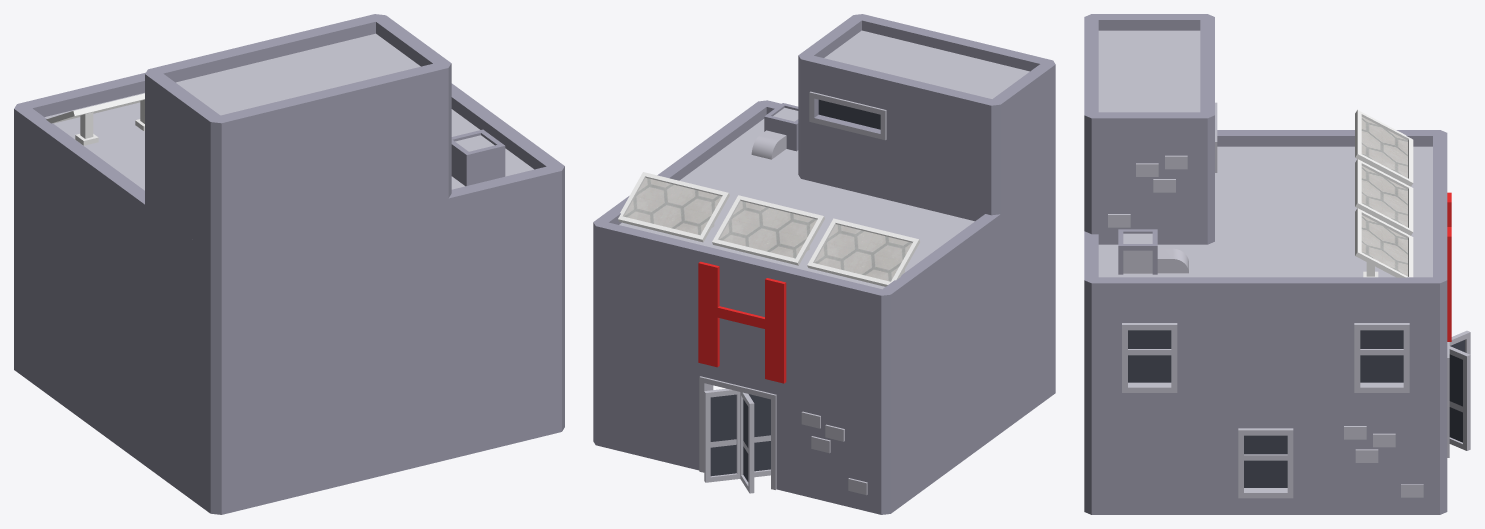
The model's file is hospital_2.fbx.
3 views of the same model, side by side, from view 1: azimuth 30°, elevation 25°; view 2: azimuth 150°, elevation 25°; view 3: azimuth 270°, elevation 25° (orthographic). The views are drawn at different scales.
Parts seen in each view (by area): view 1: wall_straight_68, wall_straight_6, wall_straight_84, wall_straight_70, wall_straight_83, wall_straight_4, wall_straight_69, wall_straight_5, roof_corner_91, roof_corner_89, wall_straight_9, wall_straight_10 (+15 smaller); view 2: wall_straight_67, wall_straight_82, wall_straight_66, wall_doorRevolving_12, wall_straight_80, wall_windowFactory_98, wall_straight_81, wall_straight_9, wall_straight_10, wall_straight_73, wall_straight_8, wall_straight_72 (+23 smaller); view 3: wall_straight_3, wall_straight_62, wall_window_78, wall_window_21, wall_window_79, wall_straight_2, wall_straight_86, roof_side_20, roof_corner_91, roof_corner_89, roof_side_24, roof_corner_16 (+17 smaller).
Boxes of the visible parts, left/top/right/bottom form: wall_straight_68: left=210, top=250, right=334, bottom=396; wall_straight_6: left=210, top=368, right=334, bottom=514; wall_straight_84: left=210, top=119, right=334, bottom=265; wall_straight_70: left=448, top=190, right=564, bottom=340; wall_straight_83: left=335, top=87, right=451, bottom=237; wall_straight_4: left=448, top=313, right=561, bottom=459; wall_straight_69: left=335, top=222, right=448, bottom=368; wall_straight_5: left=335, top=341, right=448, bottom=487; roof_corner_91: left=145, top=41, right=334, bottom=146; roof_corner_89: left=263, top=14, right=451, bottom=119; wall_straight_9: left=14, top=251, right=79, bottom=417; wall_straight_10: left=79, top=299, right=144, bottom=465; wall_straight_67: left=786, top=292, right=890, bottom=415; wall_straight_82: left=896, top=102, right=1000, bottom=221; wall_straight_66: left=593, top=242, right=690, bottom=368; wall_doorRevolving_12: left=691, top=369, right=786, bottom=493; wall_straight_80: left=595, top=346, right=690, bottom=468; wall_windowFactory_98: left=801, top=79, right=895, bottom=201; wall_straight_81: left=786, top=392, right=890, bottom=514; wall_straight_9: left=881, top=374, right=945, bottom=514; wall_straight_10: left=945, top=334, right=1000, bottom=473; wall_straight_73: left=1000, top=194, right=1055, bottom=333; wall_straight_8: left=1000, top=294, right=1055, bottom=432; wall_straight_72: left=890, top=275, right=945, bottom=413; wall_straight_3: left=1084, top=407, right=1207, bottom=514; wall_straight_62: left=1207, top=304, right=1323, bottom=409; wall_window_78: left=1091, top=304, right=1207, bottom=409; wall_window_21: left=1207, top=409, right=1323, bottom=514; wall_window_79: left=1324, top=304, right=1439, bottom=409; wall_straight_2: left=1324, top=407, right=1447, bottom=514; wall_straight_86: left=1084, top=136, right=1214, bottom=244; roof_side_20: left=1200, top=239, right=1331, bottom=304; roof_corner_91: left=1085, top=14, right=1214, bottom=79; roof_corner_89: left=1084, top=63, right=1214, bottom=139; roof_side_24: left=1215, top=130, right=1330, bottom=190; roof_corner_16: left=1316, top=228, right=1447, bottom=304.
Size of the model in its own units: 31.65 by 33 by 33.26.
